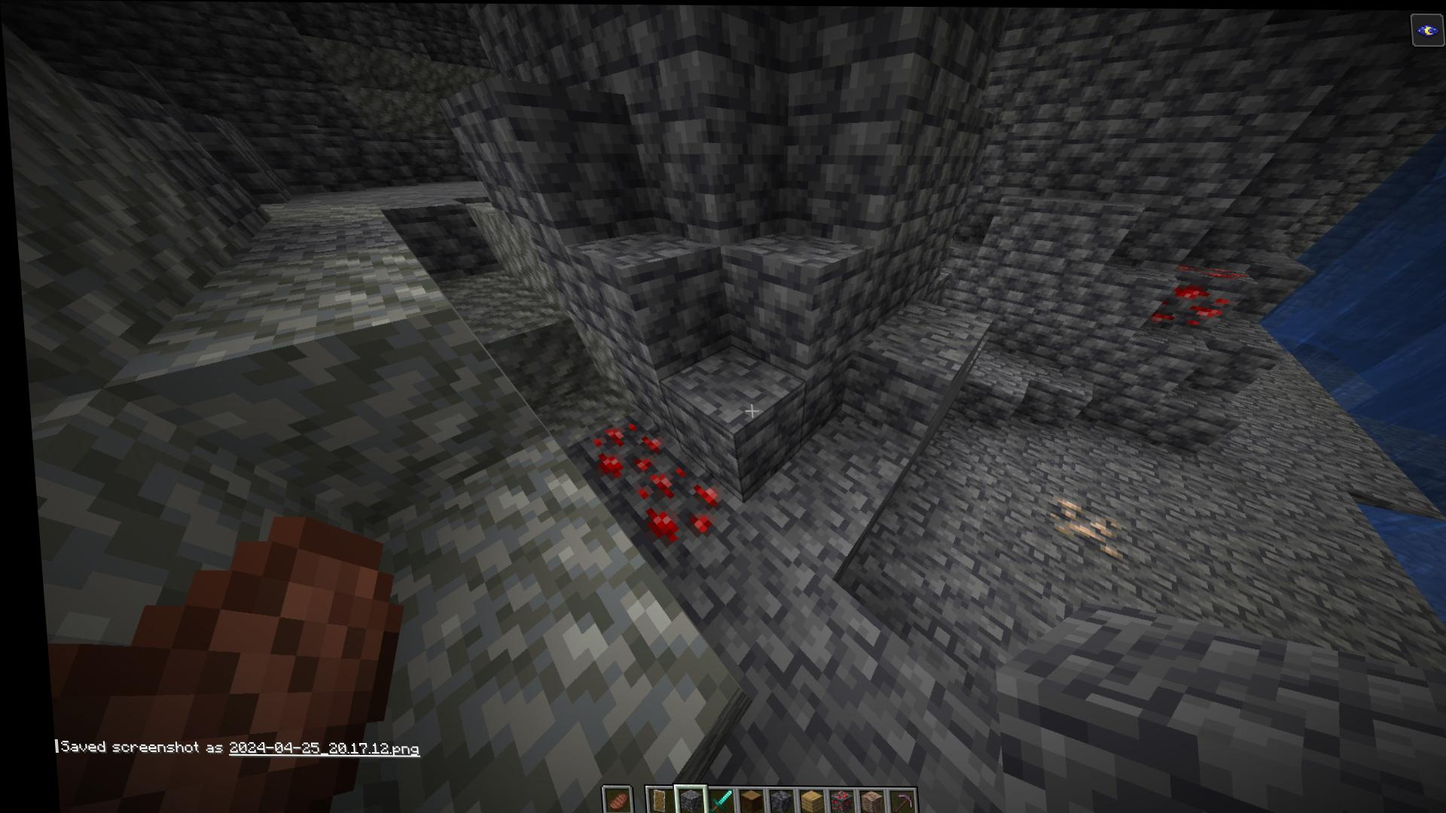iron ore: (1040, 493, 1121, 558)
redstone ore: (605, 460, 724, 562), (564, 418, 659, 480), (1148, 272, 1219, 333)
